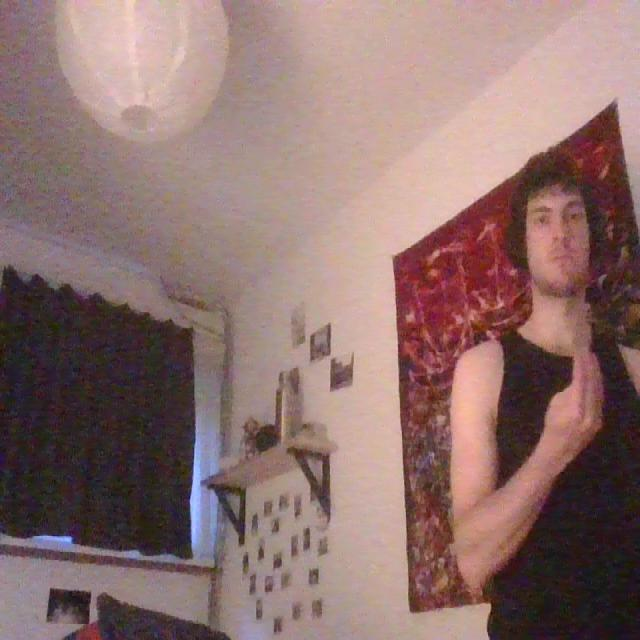forward: (536, 344, 609, 463)
